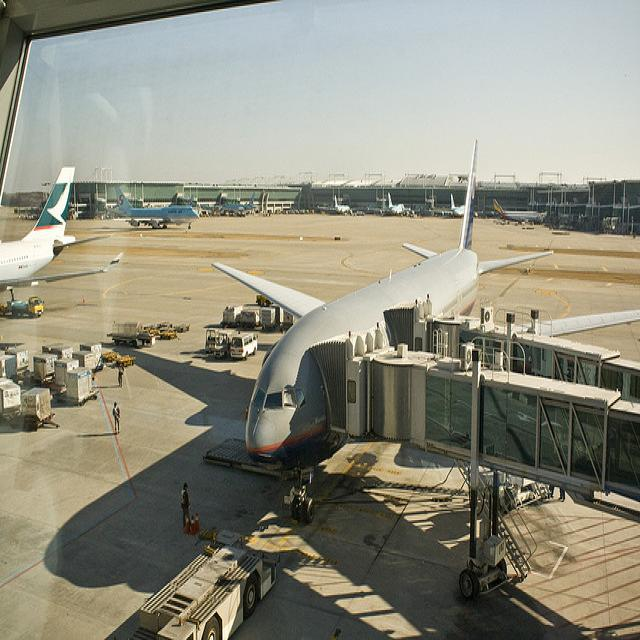Vehicle: (132, 542, 277, 640), (65, 367, 100, 408), (72, 342, 103, 373), (220, 306, 260, 329), (6, 296, 44, 318), (264, 310, 296, 335), (230, 331, 258, 358), (230, 333, 258, 360), (41, 342, 64, 352)
